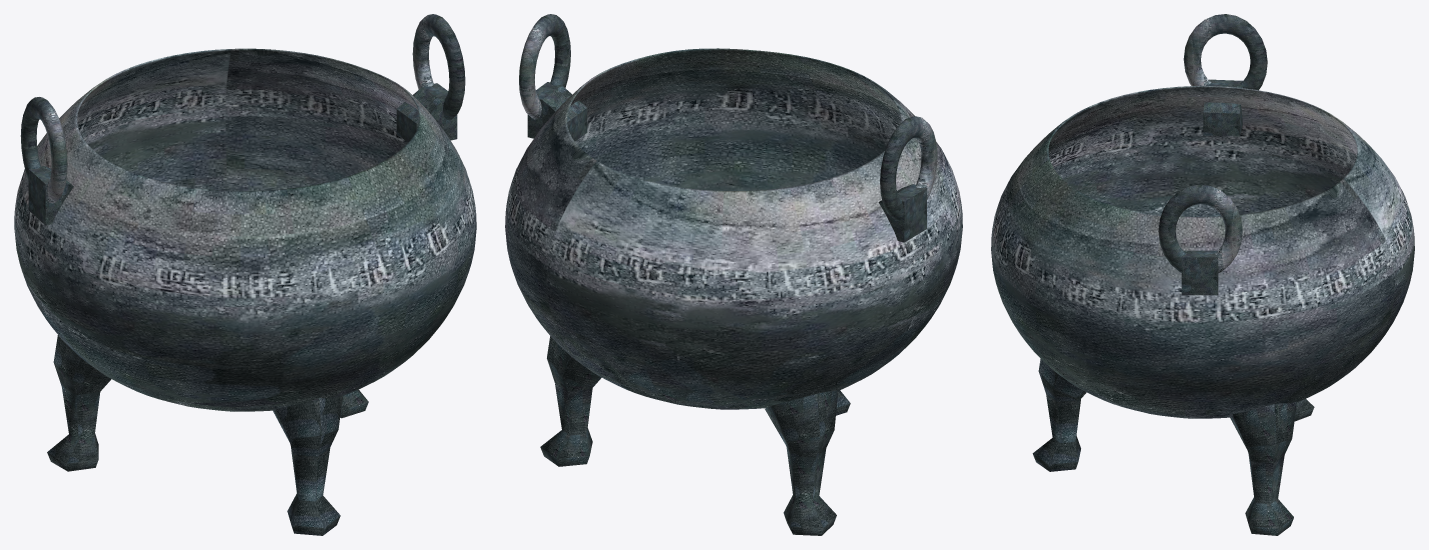
File: 汉代青铜鼎.FBX
3 views of the same model, side by side, from view 1: azimuth 30°, elevation 25°; view 2: azimuth 150°, elevation 25°; view 3: azimuth 270°, elevation 25° (orthographic). The views are drawn at different scales.
Parts seen in each view (by area): view 1: Cylinder001, Torus002, 对象001, 对象002, 对象003; view 2: Cylinder001, Torus002, 对象002, 对象003; view 3: Cylinder001, Torus002, 对象003, 对象001.
Boxes of the visible parts, box(x1,y1,x2,y2) form: Cylinder001: box(14, 48, 476, 411); Torus002: box(20, 14, 465, 225); 对象001: box(273, 395, 342, 535); 对象002: box(47, 335, 111, 471); 对象003: box(340, 389, 368, 418); Cylinder001: box(505, 48, 962, 409); Torus002: box(519, 14, 937, 242); 对象002: box(765, 390, 838, 535); 对象003: box(540, 336, 601, 466); Cylinder001: box(991, 86, 1414, 418); Torus002: box(1158, 14, 1267, 295); 对象003: box(1230, 401, 1296, 535); 对象001: box(1032, 359, 1086, 471).
Size of the model in its own units: 8.44 by 8.13 by 8.44.
Materials: 1 (1 with a texture image).
